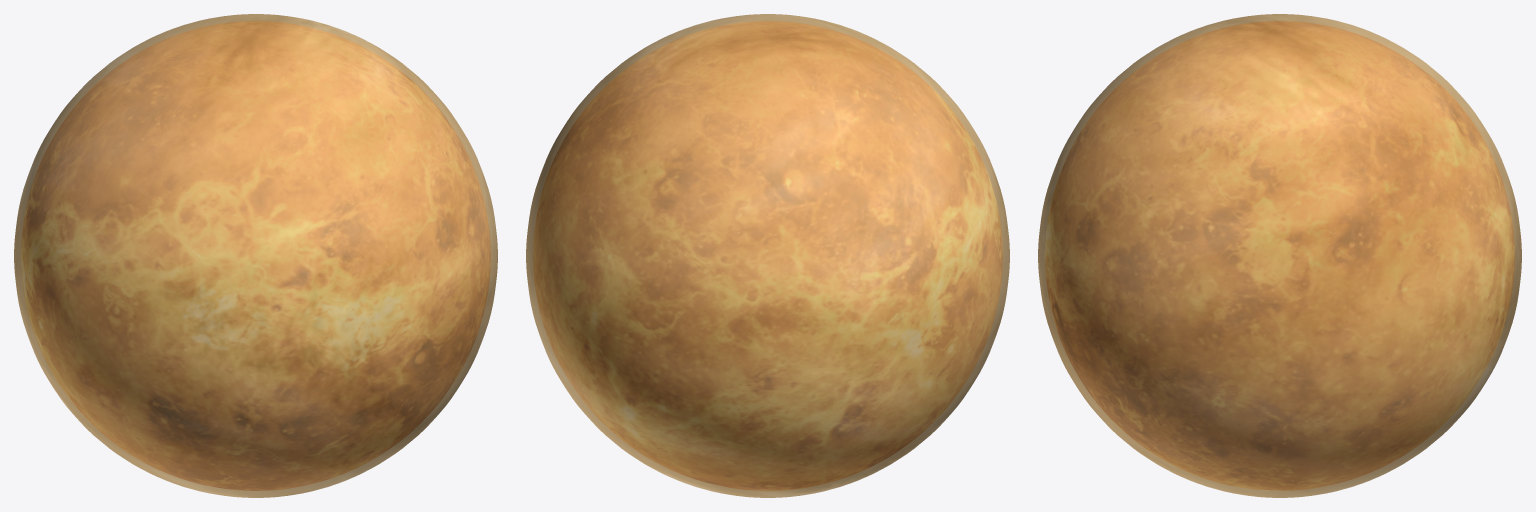
The picture shows the model from 3 angles, left to right: view 1: azimuth 30°, elevation 25°; view 2: azimuth 150°, elevation 25°; view 3: azimuth 270°, elevation 25°; orthographic projection.
Visible parts, largest first — view 1: atmosphere, venus; view 2: atmosphere, venus; view 3: atmosphere, venus.
Part boxes in pixels (box(x1,y1,x2,y2)): atmosphere: box(14, 14, 497, 497); venus: box(21, 21, 490, 490); atmosphere: box(526, 14, 1009, 497); venus: box(533, 21, 1002, 490); atmosphere: box(1038, 14, 1521, 497); venus: box(1045, 21, 1514, 490).
Bounding box in the file's own units: 26.73 × 26.74 × 26.73.
2 materials, 2 textured.
